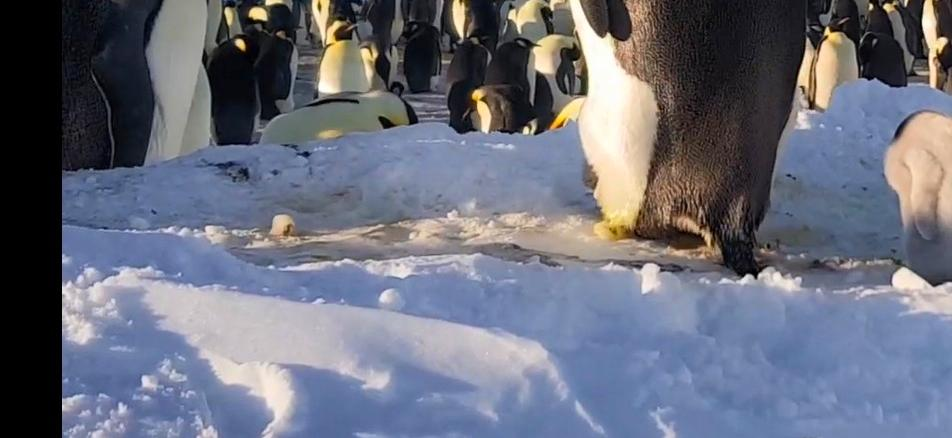Emperor Penguin: (483, 0, 793, 243), (71, 0, 270, 170), (900, 0, 952, 305)
